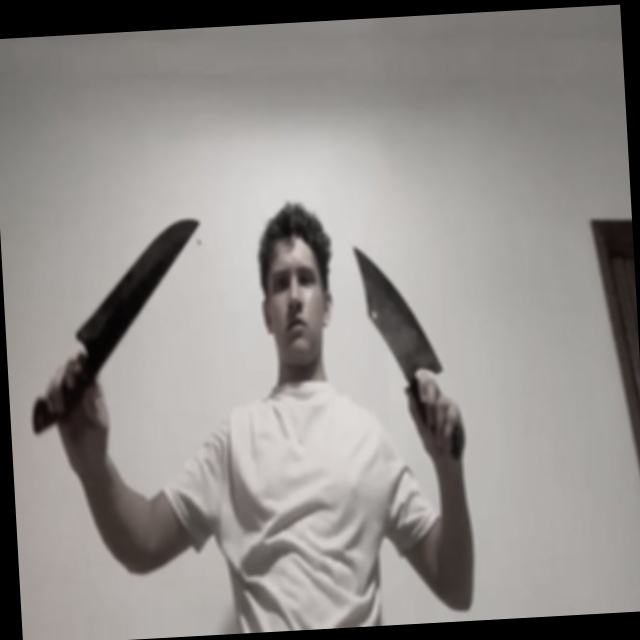Sharp-Object: (69, 216, 206, 348), (352, 241, 441, 378)
